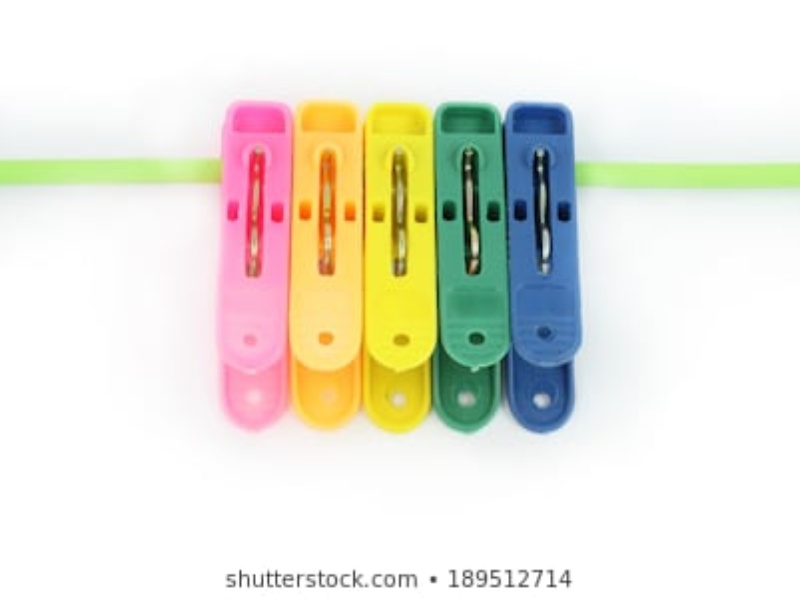plastic-peg: (213, 94, 305, 436), (285, 89, 375, 435), (497, 85, 585, 435), (431, 93, 518, 437), (361, 95, 441, 437)
